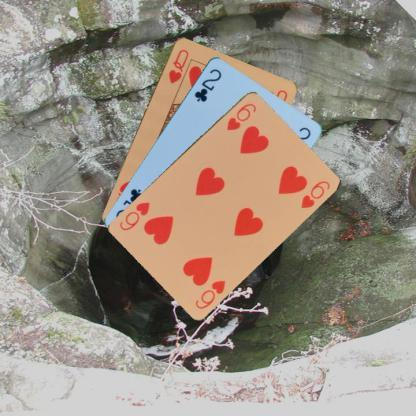2c: (192, 66, 223, 104)
6h: (192, 276, 226, 310), (224, 100, 258, 132)
Qh: (166, 46, 190, 85)
